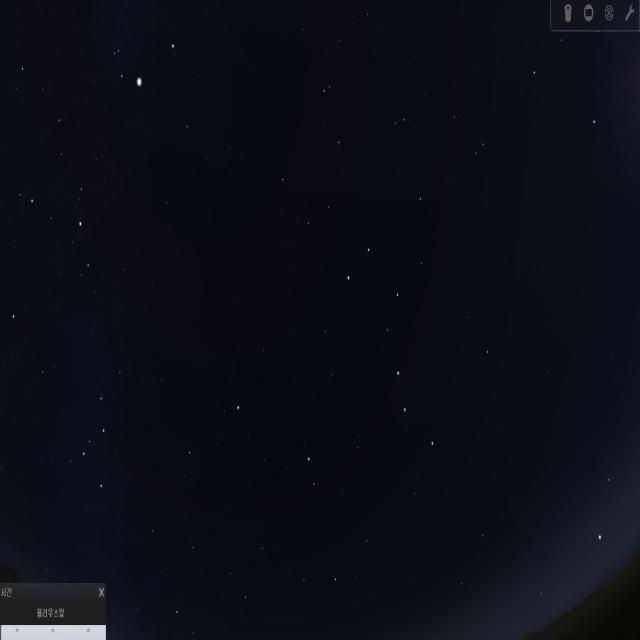cassiopeia: (65, 360, 151, 524)
ursa_major: (342, 238, 442, 462)
